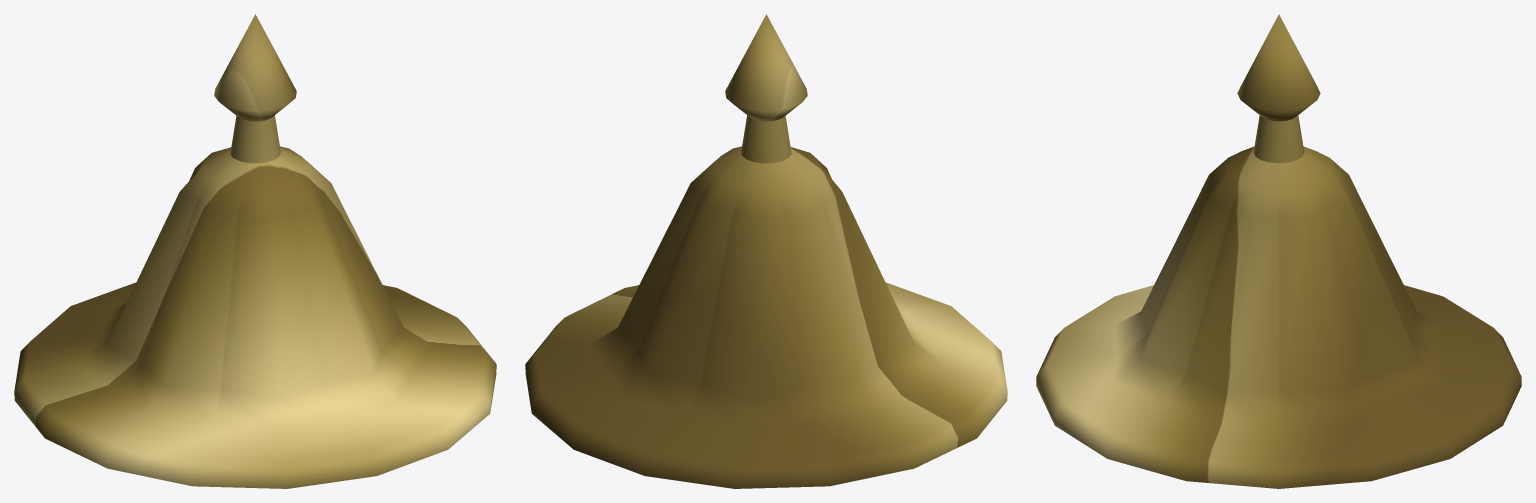
Rendered from Turkish_Kettle_02_Lid.fbx.
3 renders of one model, left to right at view 1: azimuth 30°, elevation 25°; view 2: azimuth 150°, elevation 25°; view 3: azimuth 270°, elevation 25°, orthographic.
Visible parts, largest first — view 1: Turkish_Kettle_02_Lid; view 2: Turkish_Kettle_02_Lid; view 3: Turkish_Kettle_02_Lid.
Part boxes in pixels (x1,y1,x2,y2): Turkish_Kettle_02_Lid: (14, 14, 496, 488); Turkish_Kettle_02_Lid: (525, 14, 1007, 488); Turkish_Kettle_02_Lid: (1036, 14, 1521, 488).
Size of the model in its own units: 34.59 by 31.32 by 34.59.
